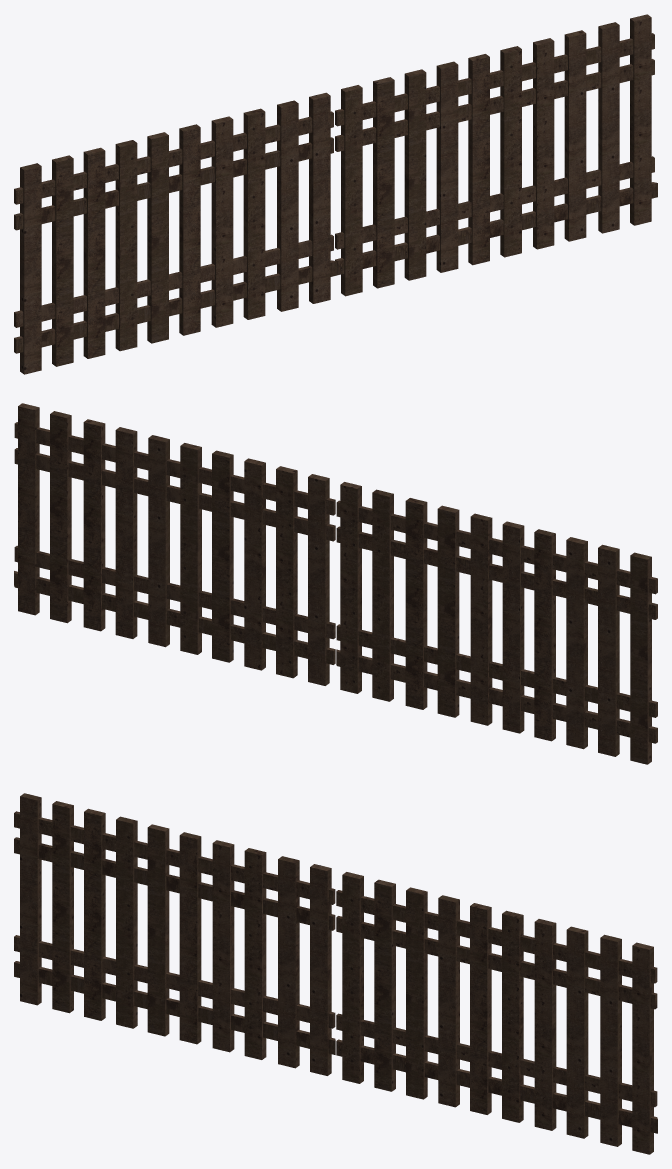
Rendered from fbxFence.fbx.
3 views of the same model, one above another, from view 1: azimuth 30°, elevation 25°; view 2: azimuth 150°, elevation 25°; view 3: azimuth 330°, elevation 25° (orthographic).
Parts seen in each view (by area): view 1: fence; view 2: fence; view 3: fence.
Part boxes in pixels (left/top/right/bottom): fence: left=14, top=14, right=657, bottom=374; fence: left=14, top=403, right=657, bottom=764; fence: left=14, top=793, right=657, bottom=1154.
Size of the model in its own units: 19.68 by 5.98 by 0.2241.
Materials: 1 (1 with a texture image).
